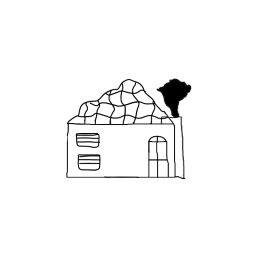closed_window: (74, 152, 105, 173), (72, 128, 104, 148)
door: (145, 133, 176, 185)
roof: (63, 76, 179, 129)
small_house: (2, 1, 260, 255)
smoking_chimney: (154, 75, 193, 127)
wall: (63, 119, 191, 188)
